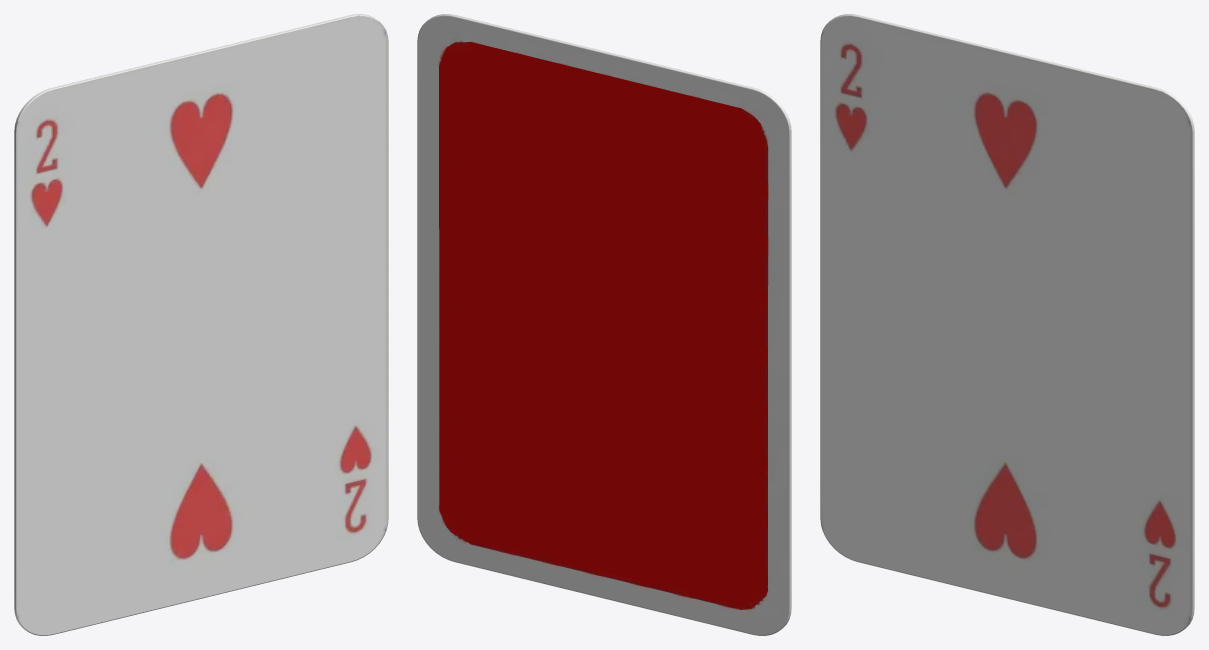
File: hearts_2.glb
3 renders of one model, left to right at view 1: azimuth 30°, elevation 25°; view 2: azimuth 150°, elevation 25°; view 3: azimuth 330°, elevation 25°, orthographic.
Parts seen in each view (by area): view 1: defaultMaterial.046; view 2: defaultMaterial.046; view 3: defaultMaterial.046.
Part boxes in pixels (x1=…): defaultMaterial.046: x1=14, y1=14, x2=388, y2=635; defaultMaterial.046: x1=417, y1=14, x2=791, y2=635; defaultMaterial.046: x1=820, y1=14, x2=1194, y2=635.
Bounding box in the file's own units: 0.1408 × 0.1972 × 0.00111.
Materials: 1 (1 with a texture image).
